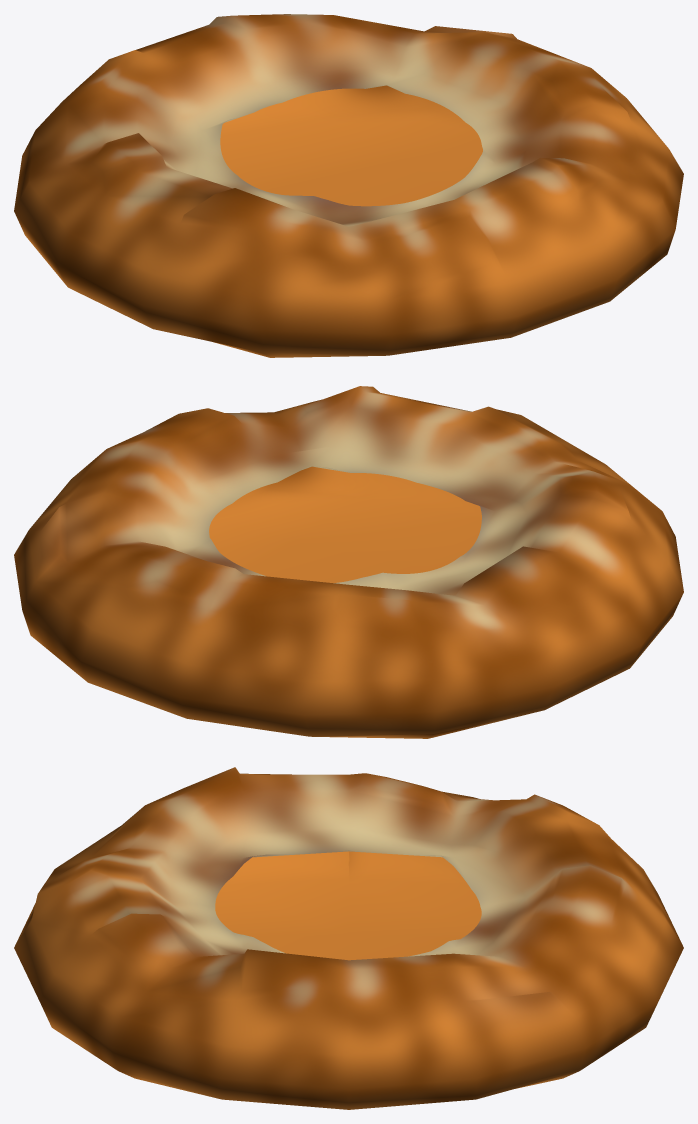
Rendered from pastry.fbx.
3 views of the same model, one above another, from view 1: azimuth 30°, elevation 25°; view 2: azimuth 150°, elevation 25°; view 3: azimuth 270°, elevation 25° (orthographic).
Visible parts, largest first — view 1: pastry; view 2: pastry; view 3: pastry.
Part boxes in pixels (left/top/right/bottom): pastry: left=14, top=14, right=683, bottom=357; pastry: left=14, top=386, right=683, bottom=738; pastry: left=14, top=767, right=683, bottom=1109.
Bounding box in the file's own units: 9.83 × 2.23 × 9.83.
